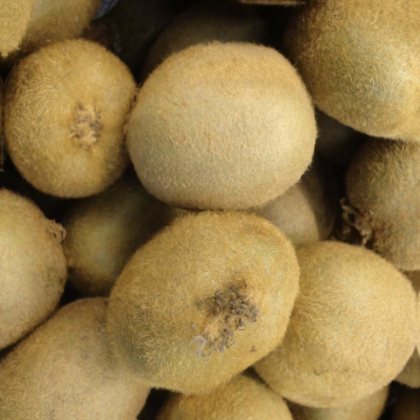kiwi: (106, 19, 321, 234), (93, 195, 313, 401), (252, 233, 419, 417), (1, 31, 155, 203)
